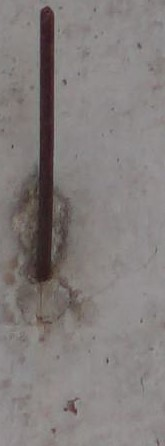Exposed reinforcement: (34, 5, 55, 281)
Spalling: (9, 170, 72, 325)
